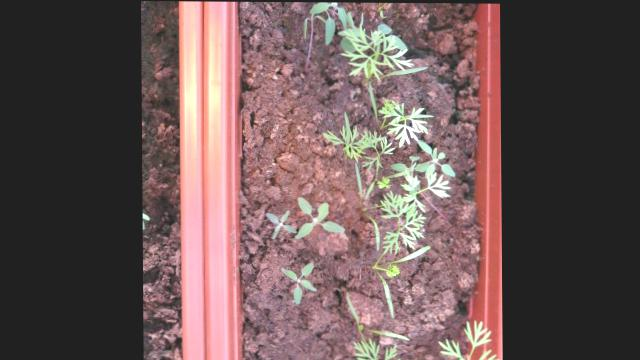weed: (279, 255, 319, 307)
